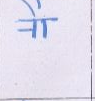au_matra: (26, 0, 54, 38)
